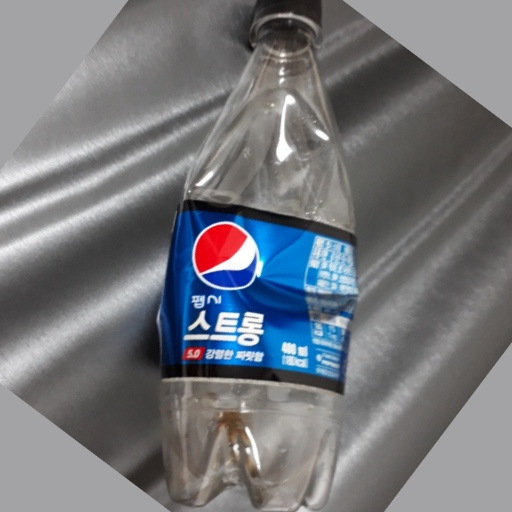Plastic_0: (150, 1, 359, 509)
